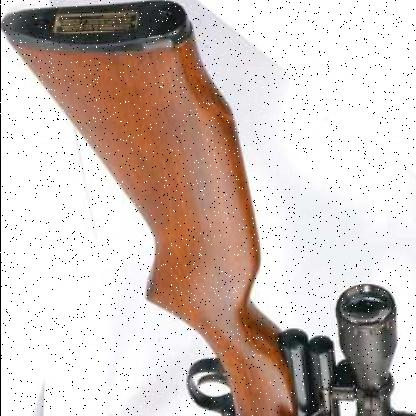rifle: (1, 0, 414, 415)
